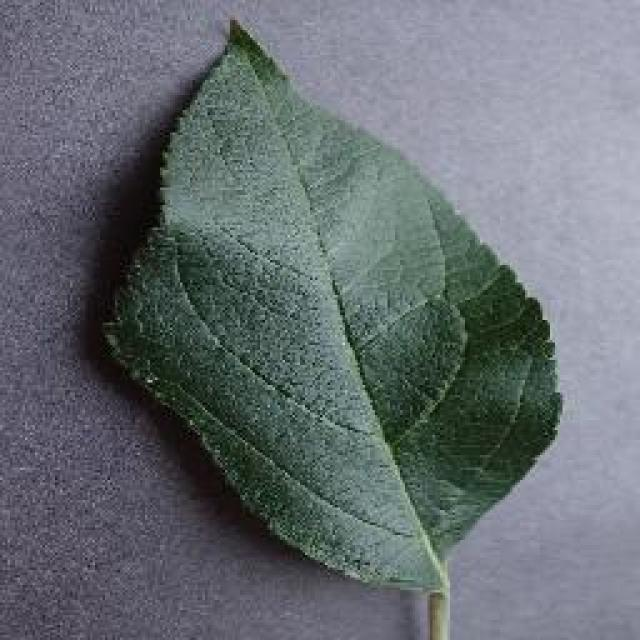apple healthy: (97, 12, 565, 632)
